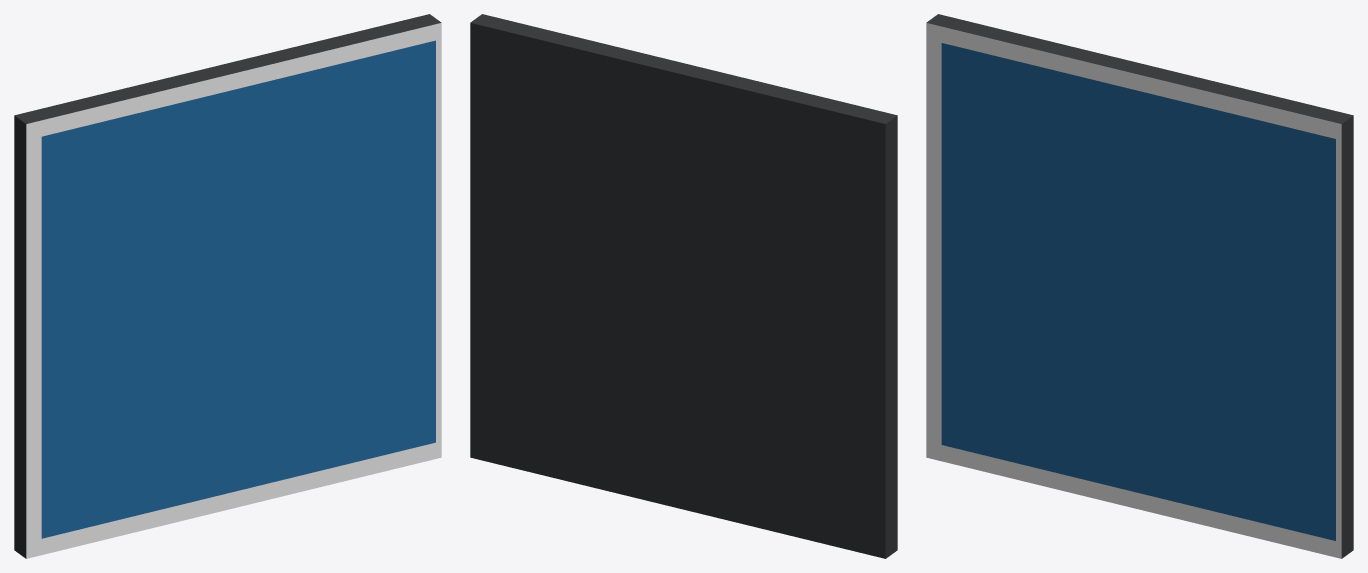
File: board.glb
The picture shows the model from 3 angles, left to right: view 1: azimuth 30°, elevation 25°; view 2: azimuth 150°, elevation 25°; view 3: azimuth 330°, elevation 25°; orthographic projection.
Parts seen in each view (by area): view 1: Cube.001; view 2: Cube.001; view 3: Cube.001.
Part boxes in pixels (x1,y1,x2,y2): Cube.001: [14, 14, 441, 558]; Cube.001: [470, 14, 897, 558]; Cube.001: [926, 14, 1353, 558].
Bounding box in the file's own units: 2 × 2 × 0.1.
